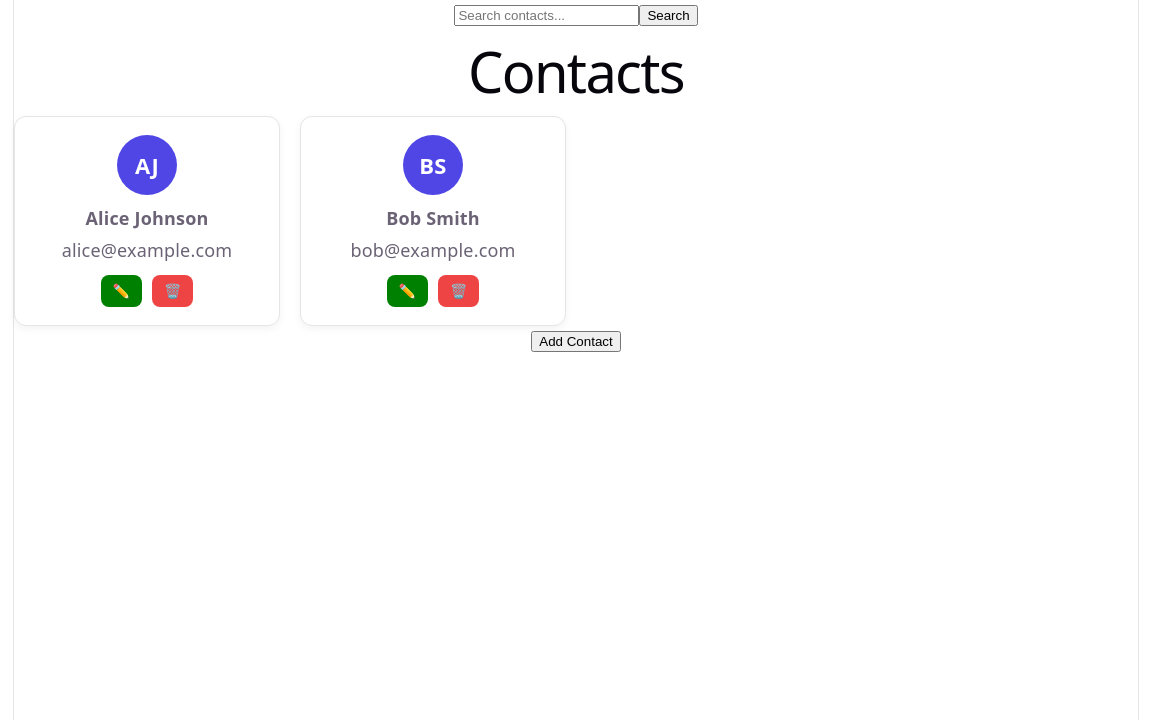
Scenario: Contacts Page Integration Test › opens edit modal with prefilled contact data
The width and height of the screenshot is (1152, 720).
Check: the heading "Alice Johnson" is shown, box [86, 205, 208, 231]
Click the button with test id "edit-contact-btn" below "alice@example.com" at (121, 291), box [100, 275, 142, 307]
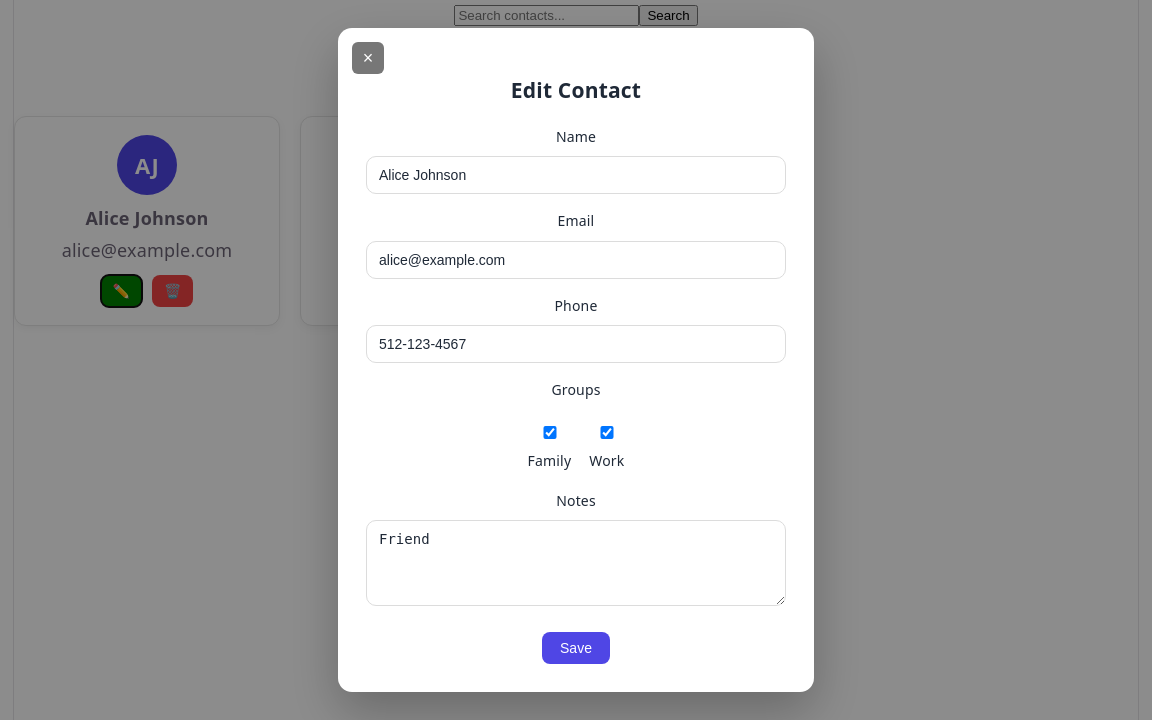
Check: the field showing "Alice Johnson" is shown, box [366, 156, 786, 194]
Check: the field showing "alice@example.com" is shown, box [366, 240, 786, 278]
